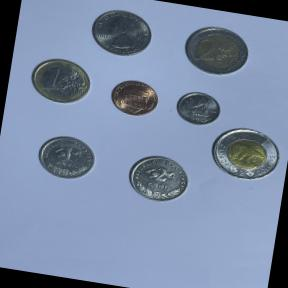1 Euro: (25, 52, 96, 109)
2 Euro: (178, 19, 256, 82)
Canda-10cent-: (172, 86, 226, 130)
Canda-2Dollar-: (206, 123, 285, 186)
Croatia-2Kune-: (121, 148, 195, 208)
US-1cent-: (105, 75, 163, 122)
US-25cent-: (84, 3, 158, 63)
